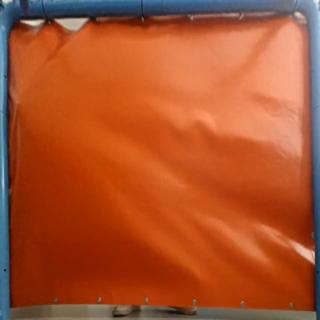Hit-hRxx: (12, 97, 23, 111)
